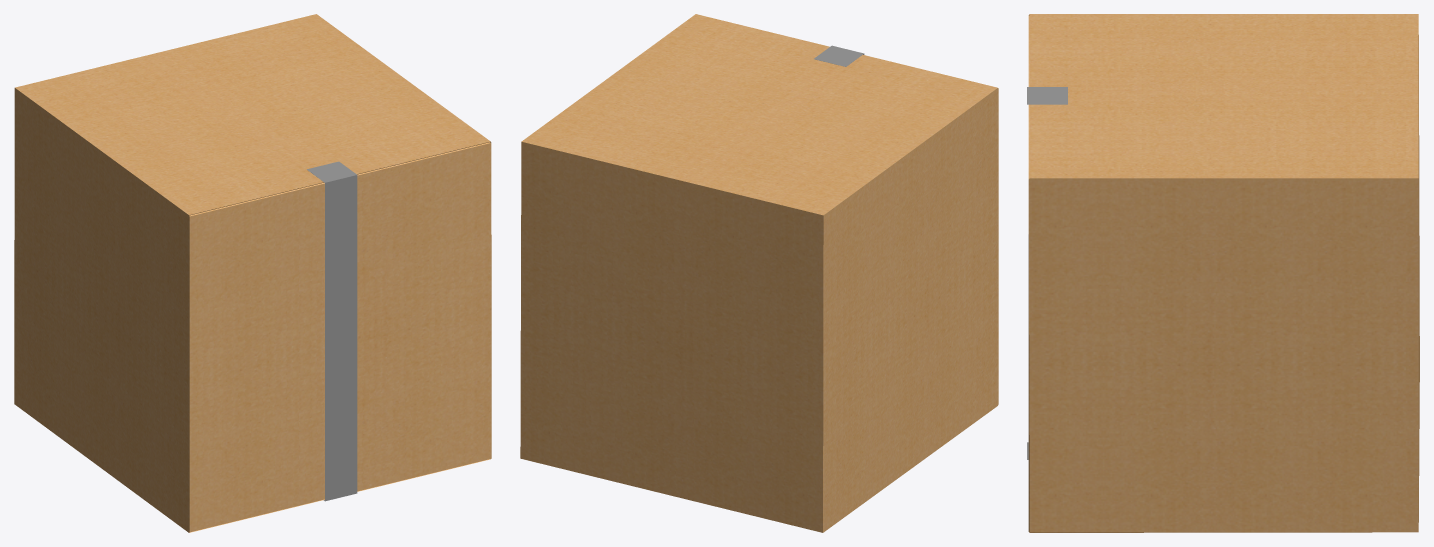
Rendered from Cardboard.obj.
3 views of the same model, side by side, from view 1: azimuth 30°, elevation 25°; view 2: azimuth 150°, elevation 25°; view 3: azimuth 270°, elevation 25° (orthographic). The views are drawn at different scales.
Parts seen in each view (by area): view 1: Cardboard_box_on_palette_3; view 2: Cardboard_box_on_palette_3; view 3: Cardboard_box_on_palette_3.
Part boxes in pixels (x1,y1,x2,y2): Cardboard_box_on_palette_3: (14,14,491,532); Cardboard_box_on_palette_3: (520,14,998,532); Cardboard_box_on_palette_3: (1027,14,1419,532).
Bounding box in the file's own units: 0.0499 × 0.0501 × 0.0502.
